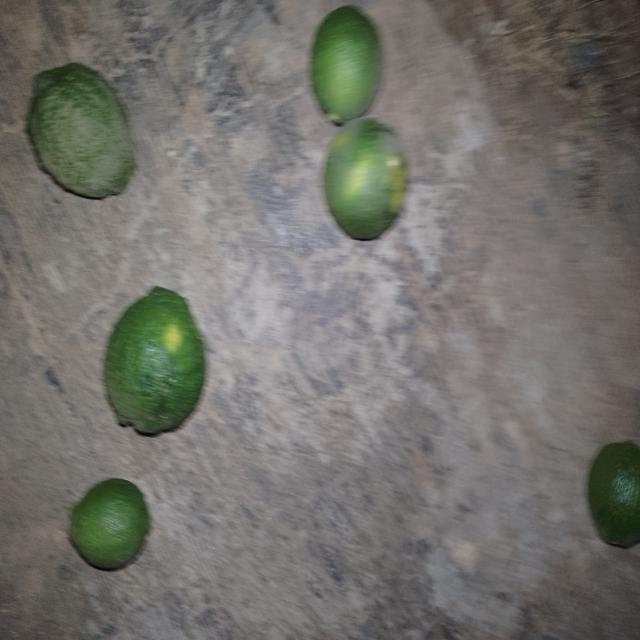Unripe: (20, 56, 157, 220), (100, 275, 215, 445), (54, 464, 177, 578), (315, 121, 414, 256), (303, 2, 395, 146)
